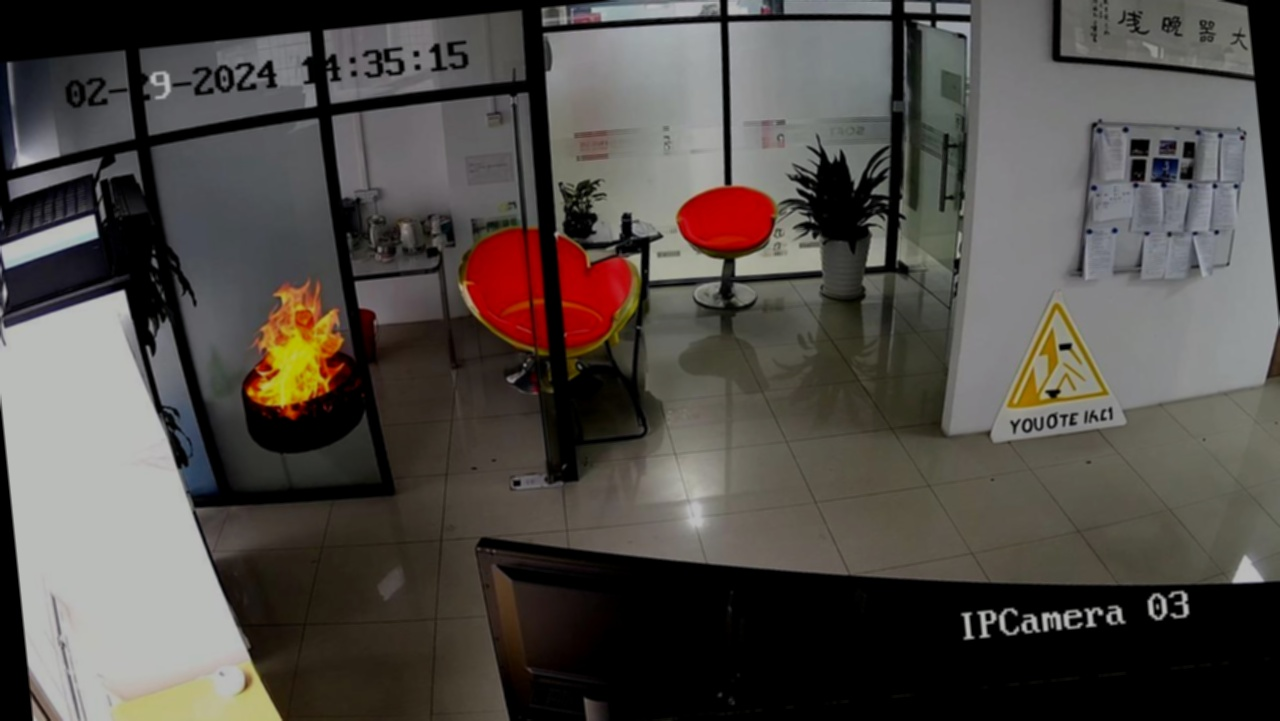fire: (202, 226, 399, 456)
